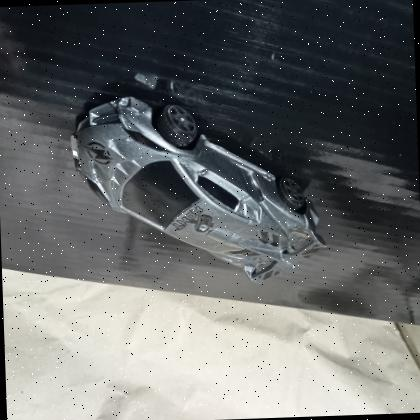Car: (62, 83, 334, 296)
